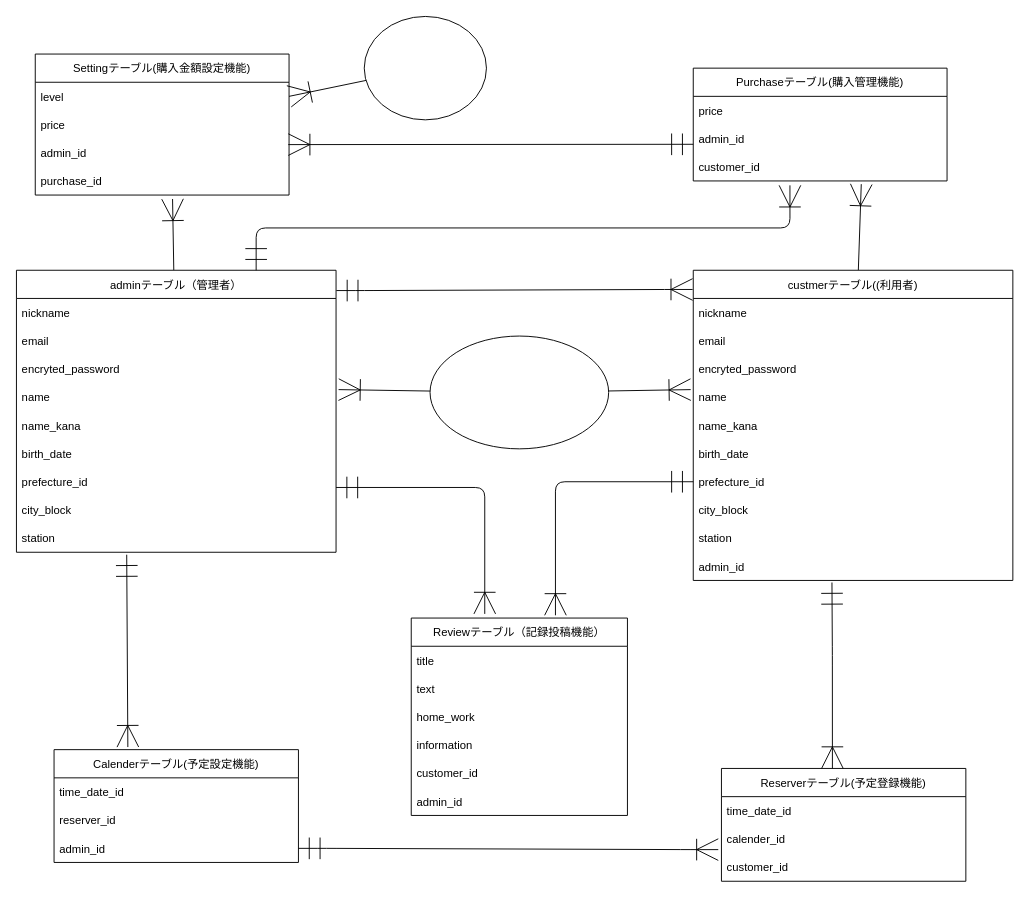
The diagram is 1029 pixels wide and 898 high, and some of its shapes have lost their labels. Each missing label, with the centre of its shape:
"Levelテーブル(階級)" belongs at [424,68].
"Prefectureテーブル(都道府県)" belongs at [519,392].
